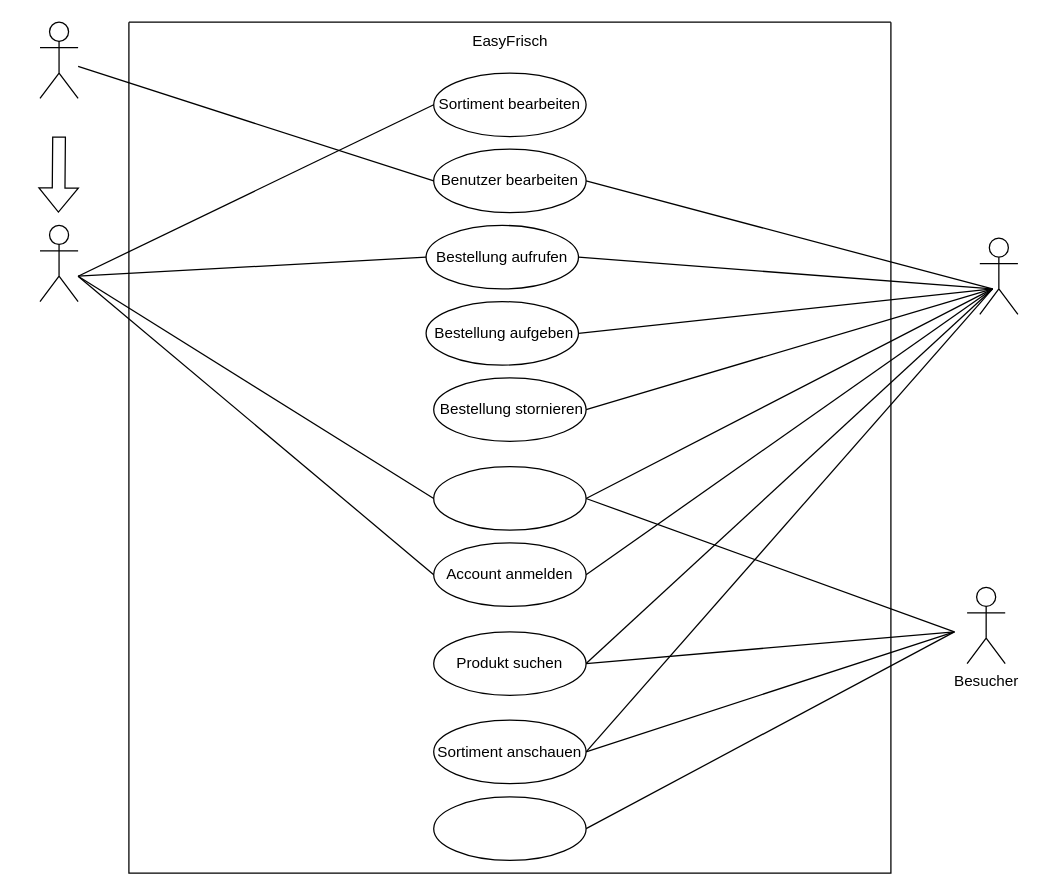
Some shapes in this 1043 by 895 pixel diagram are drawn without their labels. Each missing label, with the centre of its shape:
"(Bäckerei) Mitarbeiter" belongs at (x=58, y=263).
"Account erstellen" belongs at (x=509, y=828).
"Admin" belongs at (x=58, y=59).
"Homepage aufrufen" belongs at (x=509, y=497).
"Kunde" belongs at (x=998, y=275).
